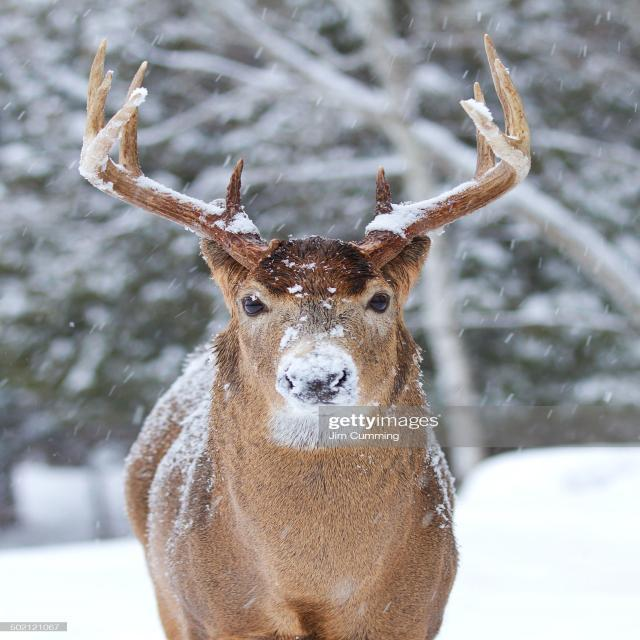L-F: (349, 100, 531, 270)
L-G1: (373, 165, 395, 221)
L-G4: (494, 58, 530, 151)
R-F: (80, 93, 279, 272)
R-G1: (223, 157, 248, 218)
